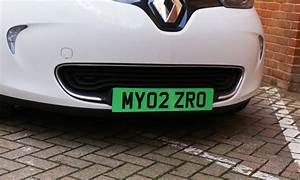number_plate: (113, 88, 214, 110)
